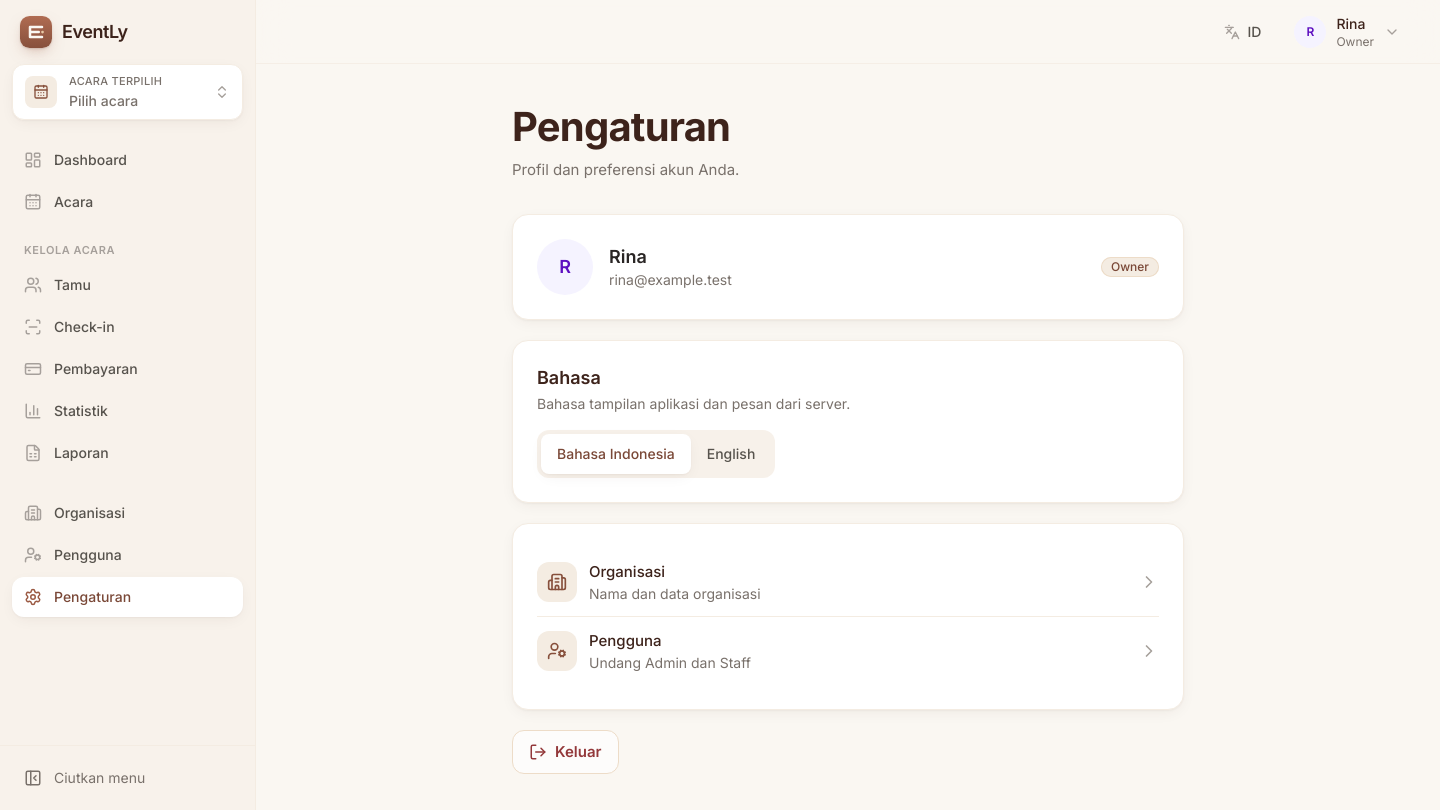
Test: organizer frame › shows the profile page with language and sign out
Expected: the heading "Pengaturan" is shown, left=512, top=104, right=739, bottom=150
Click the button "English" at point(731, 454), box left=691, top=434, right=771, bottom=474
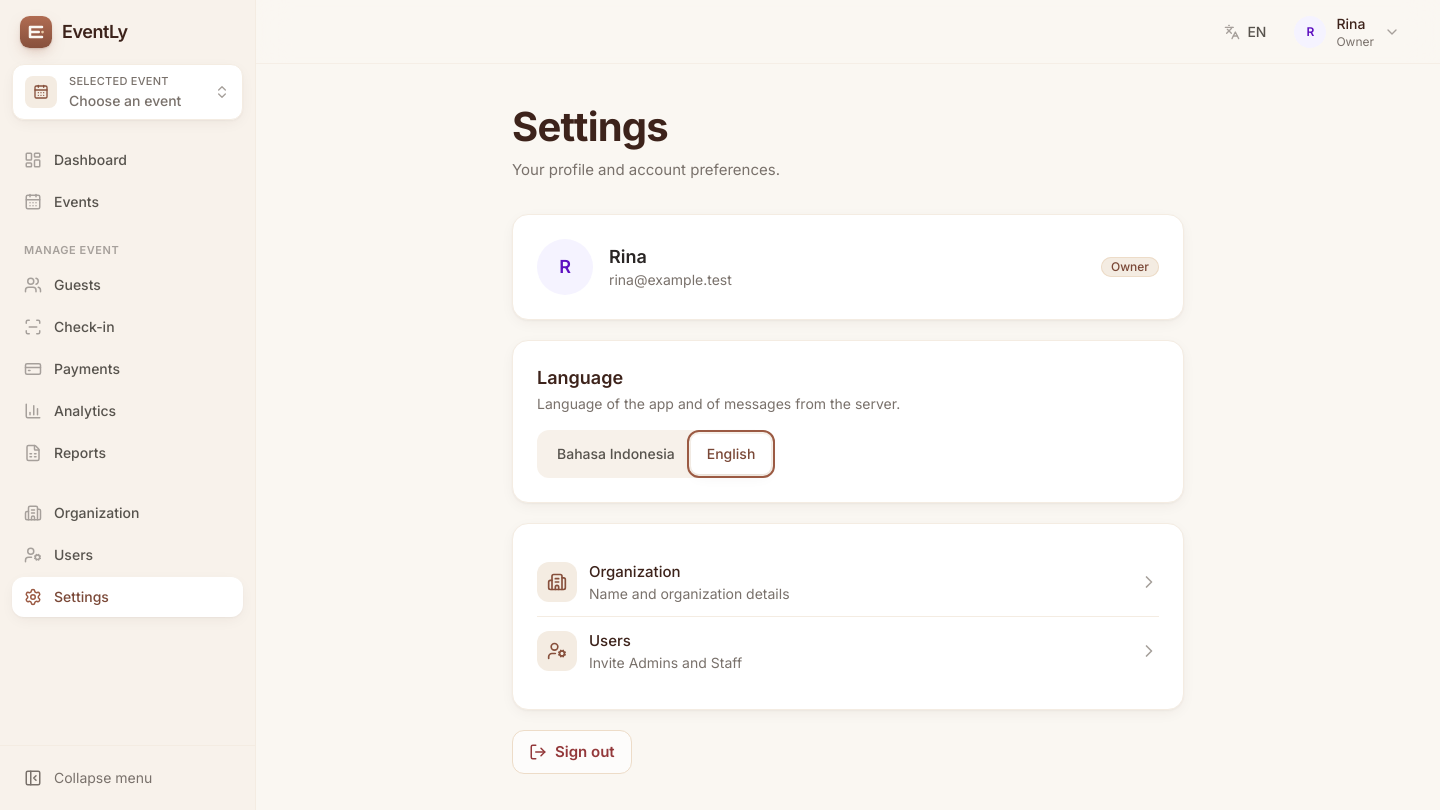
Expected: the heading "Settings" is shown, left=512, top=102, right=668, bottom=151
Expected: the button "Sign out" is shown, left=512, top=730, right=632, bottom=774
